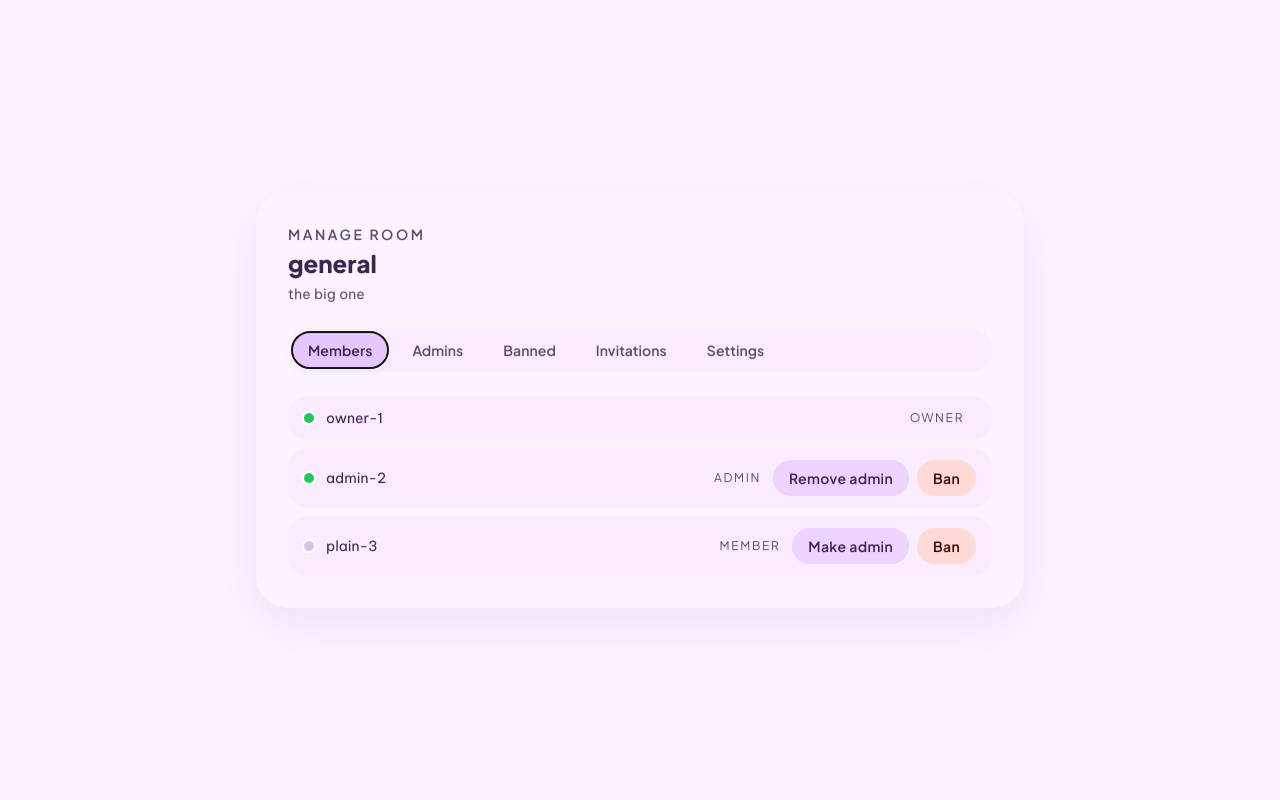
Test case: <ManageRoomModal /> › Banned tab surfaces an error + retry when listRoomBans fails
Click the button with test id "manage-room-tab-banned": click(530, 350) [487,332,572,368]
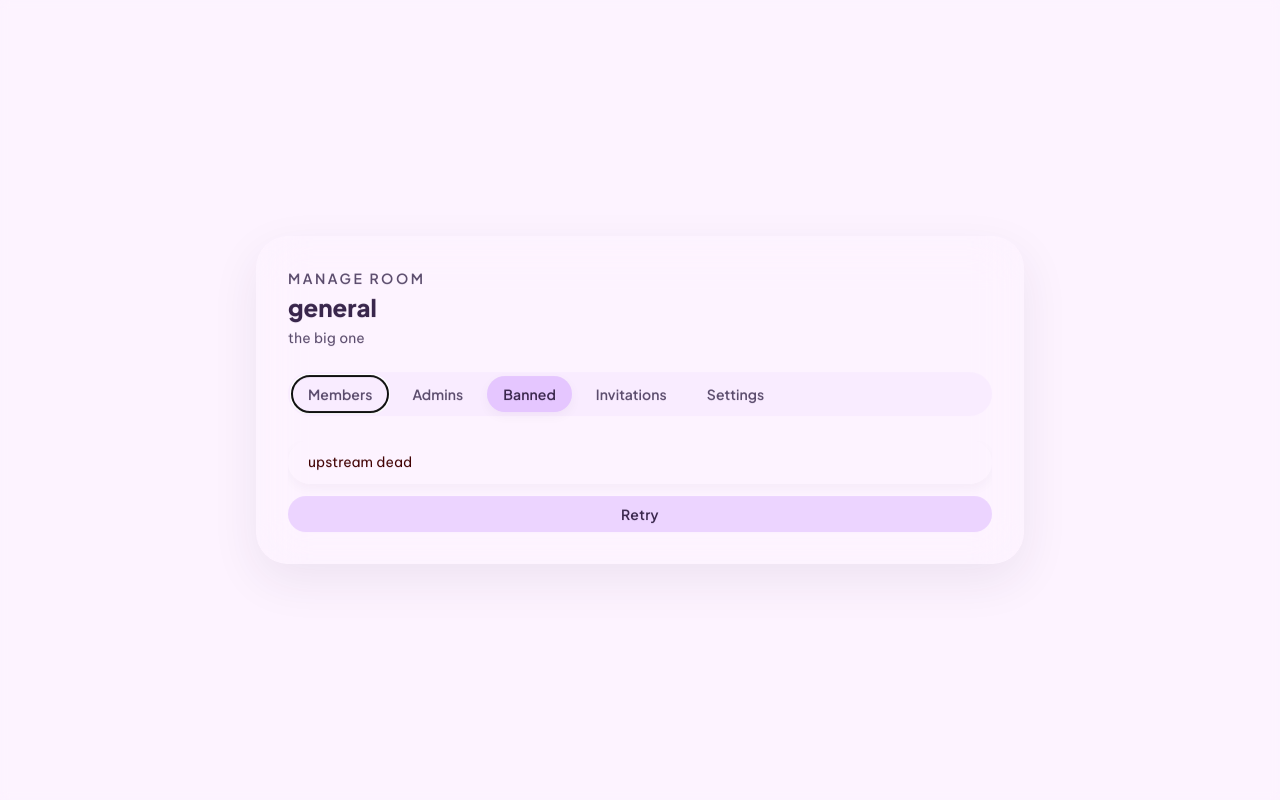
Result: the message reads "upstream dead" at [308,453,412,471]
Result: the button "Retry" is shown at [288,496,992,532]
